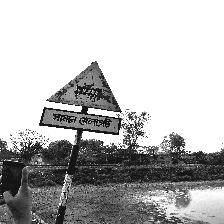Rail-crossing: (42, 61, 123, 140)
